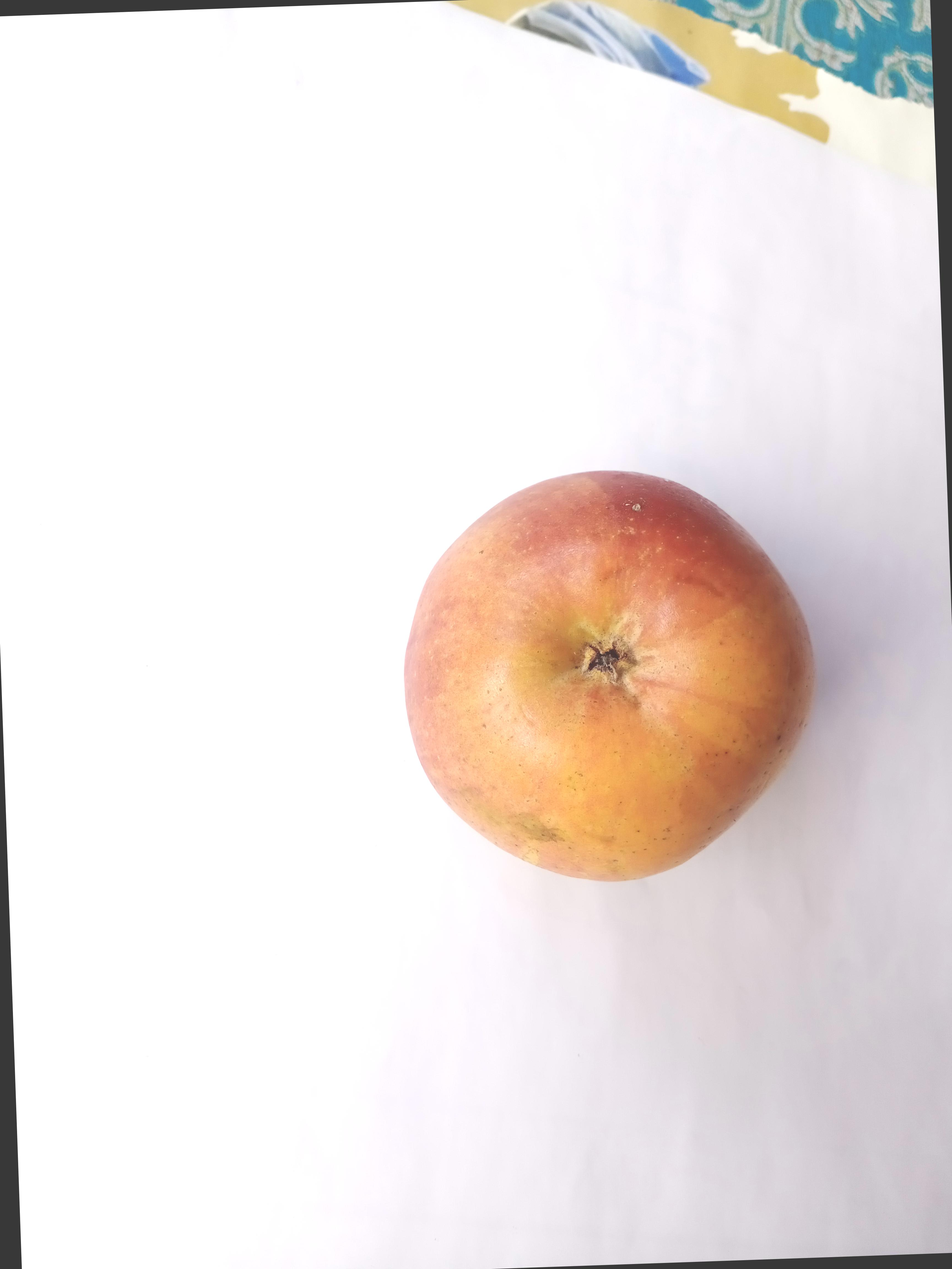Apple Ripe: (361, 463, 814, 938)
